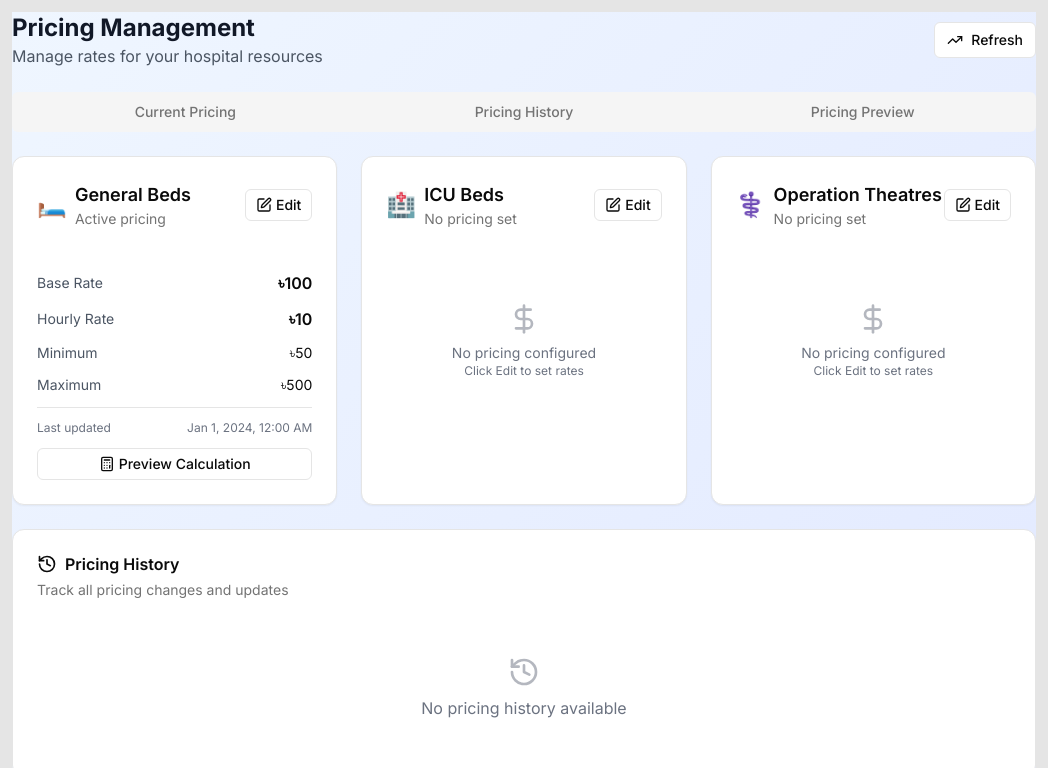
HospitalPricingDashboard › validates pricing data before saving
Note: Start editing
Click the button "Edit" in the row of "Active pricing": (279, 205) [245,189,312,221]
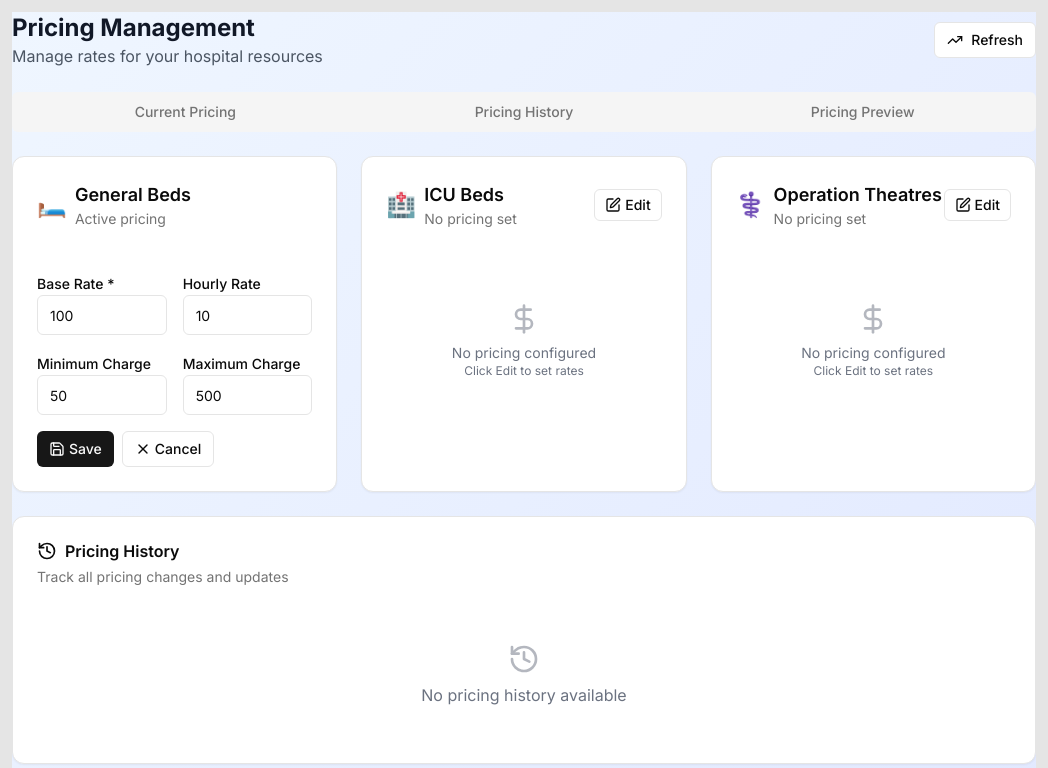
Note: Set invalid data (negative base rate)
Replace the text in the number field labelled "Base Rate *" with "-10": (102, 315) [37,295,167,335]
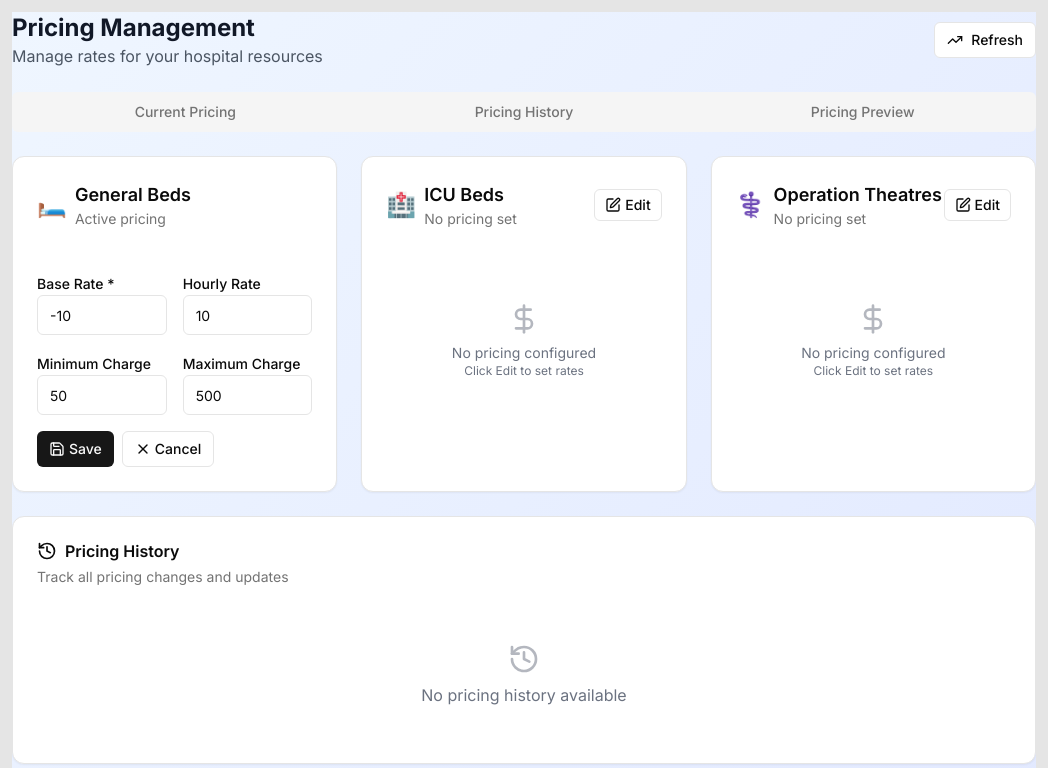
Note: Try to save
Click the button "Save": (75, 449) [37,431,114,467]
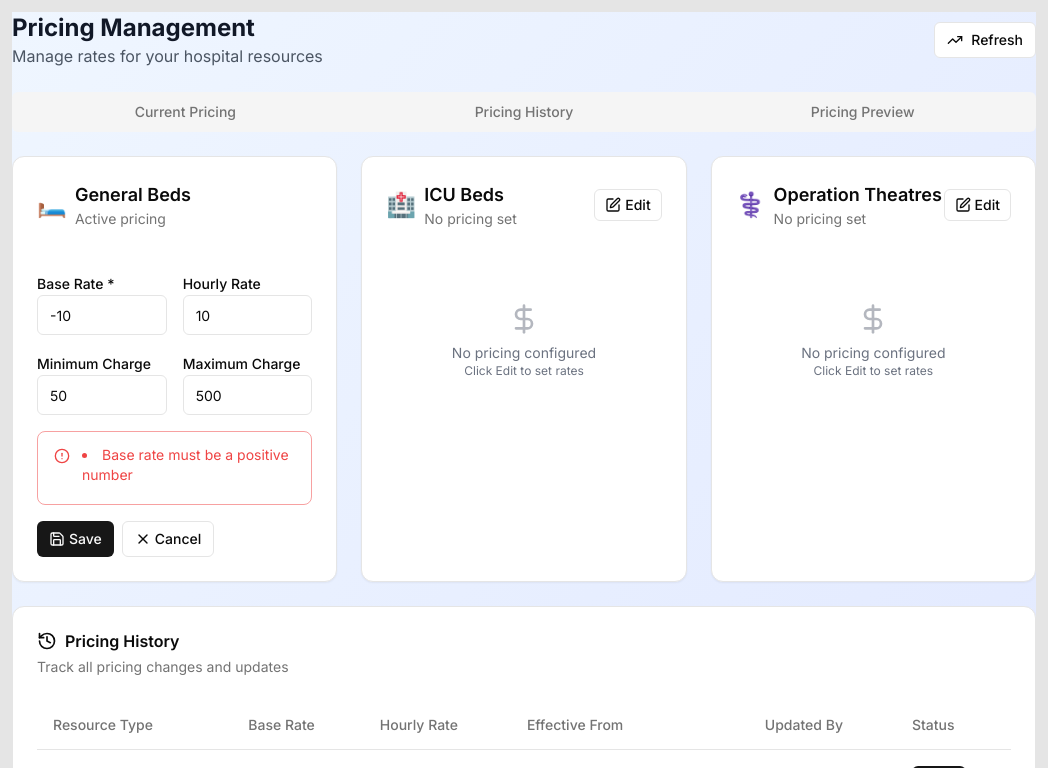
Now the list item "Base rate must be a positive number" is shown, box [82,445,295,485]
